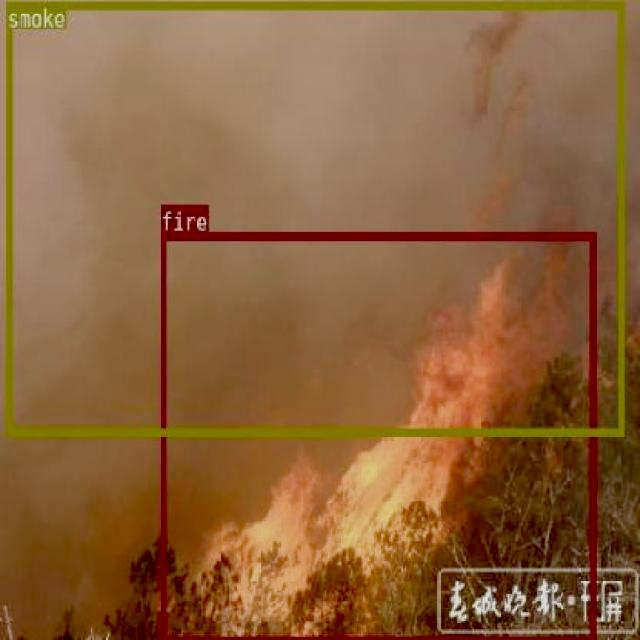fire: (158, 231, 594, 640)
smoke: (5, 1, 622, 434)
